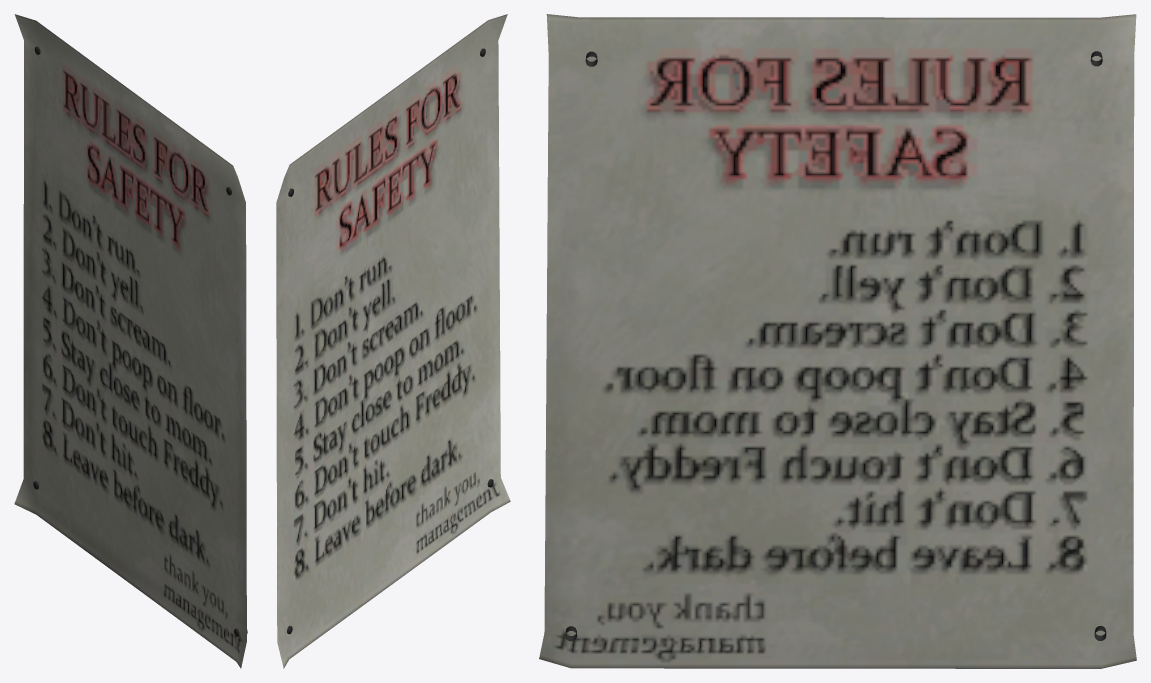
File: posterrules_reference.001.fbx
3 views of the same model, side by side, from view 1: azimuth 30°, elevation 25°; view 2: azimuth 150°, elevation 25°; view 3: azimuth 270°, elevation 25° (orthographic). The views are drawn at different scales.
Visible parts, largest first — view 1: posterrules_reference.001; view 2: posterrules_reference.001; view 3: posterrules_reference.001.
Part boxes in pixels (box(x1,y1,x2,y2)): posterrules_reference.001: box(14, 14, 247, 668); posterrules_reference.001: box(276, 14, 510, 668); posterrules_reference.001: box(539, 14, 1136, 668).
Size of the model in its own units: 2.95 by 84.23 by 70.07.
